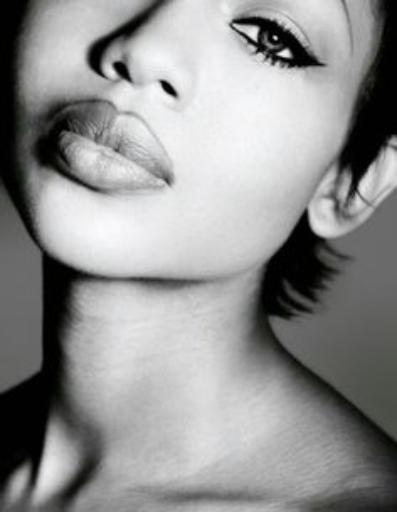left_eye: (229, 12, 333, 76)
left_lip_corner: (153, 170, 182, 196)
right_lip_corner: (49, 119, 71, 141)
